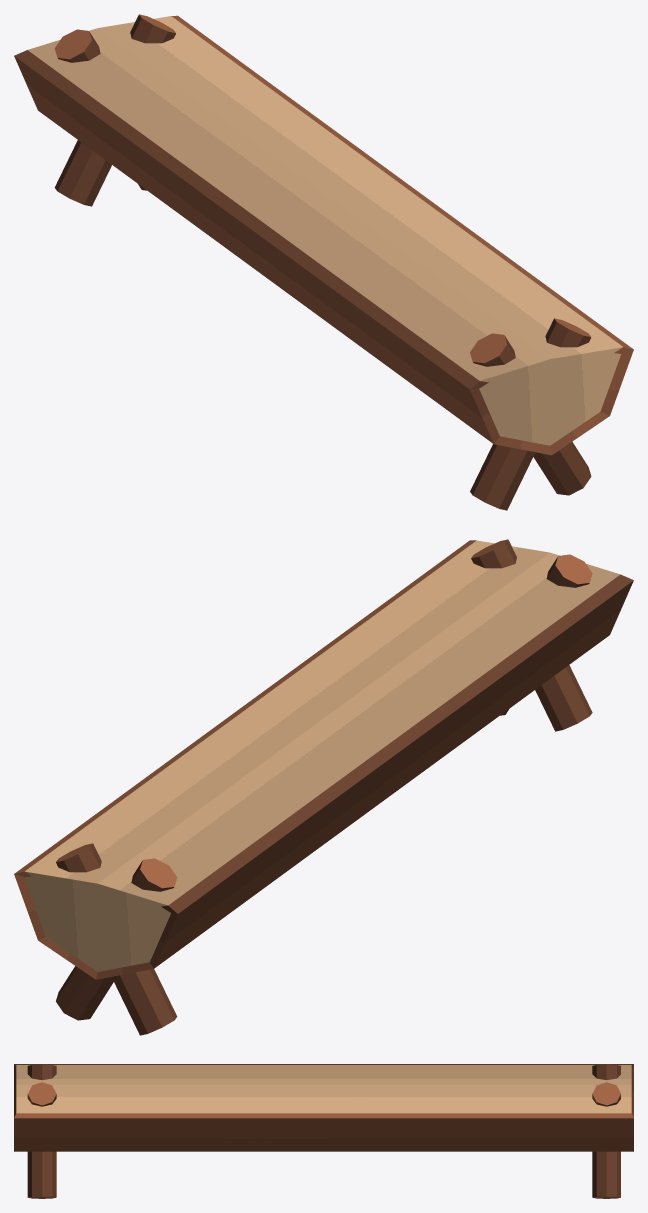
The model's file is wood_bench.fbx.
The picture shows the model from 3 angles, top to bottom: view 1: azimuth 30°, elevation 25°; view 2: azimuth 150°, elevation 25°; view 3: azimuth 270°, elevation 25°; orthographic projection. The views are drawn at different scales.
Parts seen in each view (by area): view 1: WoodBench; view 2: WoodBench; view 3: WoodBench.
Part boxes in pixels (x1=…): WoodBench: x1=14, y1=14, x2=633, y2=510; WoodBench: x1=14, y1=539, x2=633, y2=1035; WoodBench: x1=14, y1=1064, x2=633, y2=1198.
Size of the model in its own units: 2.93 by 0.6087 by 0.6098.
